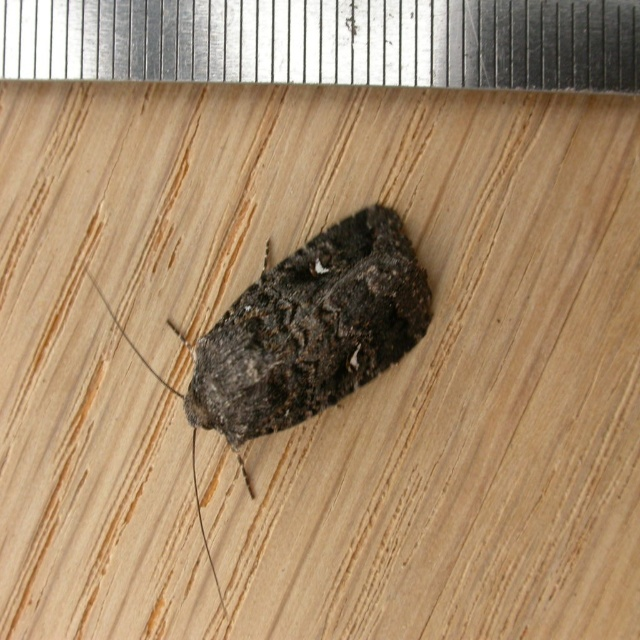Moths and butterflies: (84, 201, 434, 620)
